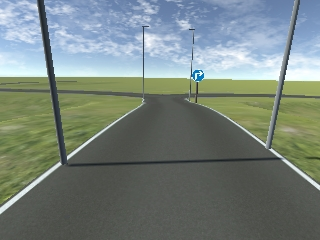right: (192, 69, 205, 82)
